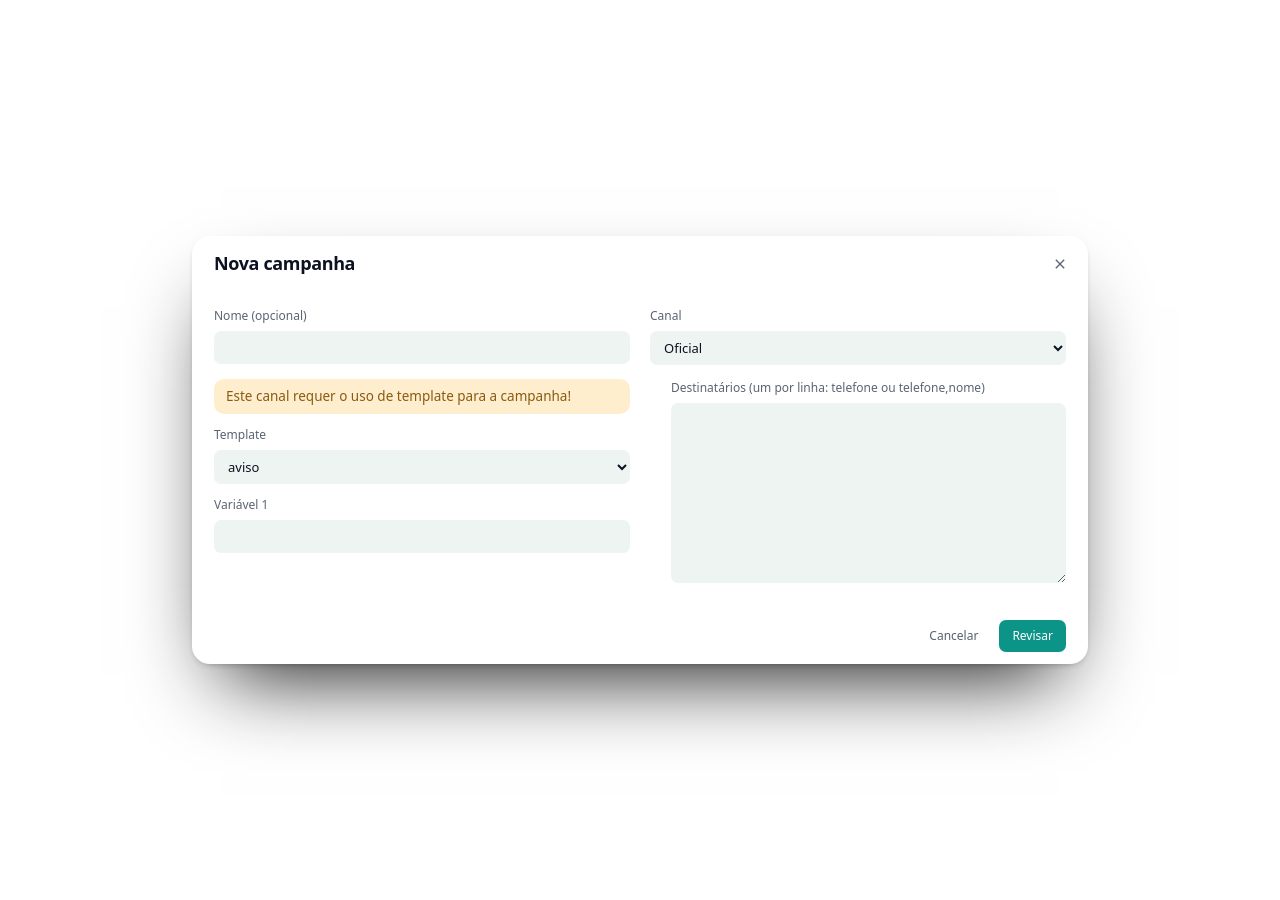
CreateCampaignModal › canal oficial exige template e variáveis preenchidas
This screenshot has width=1280, height=900.
Type "5511999990000" into the text box labelled "Destinatários (um por linha: telefone ou telefone,nome)". click: (868, 493)
box: [671, 403, 1066, 583]
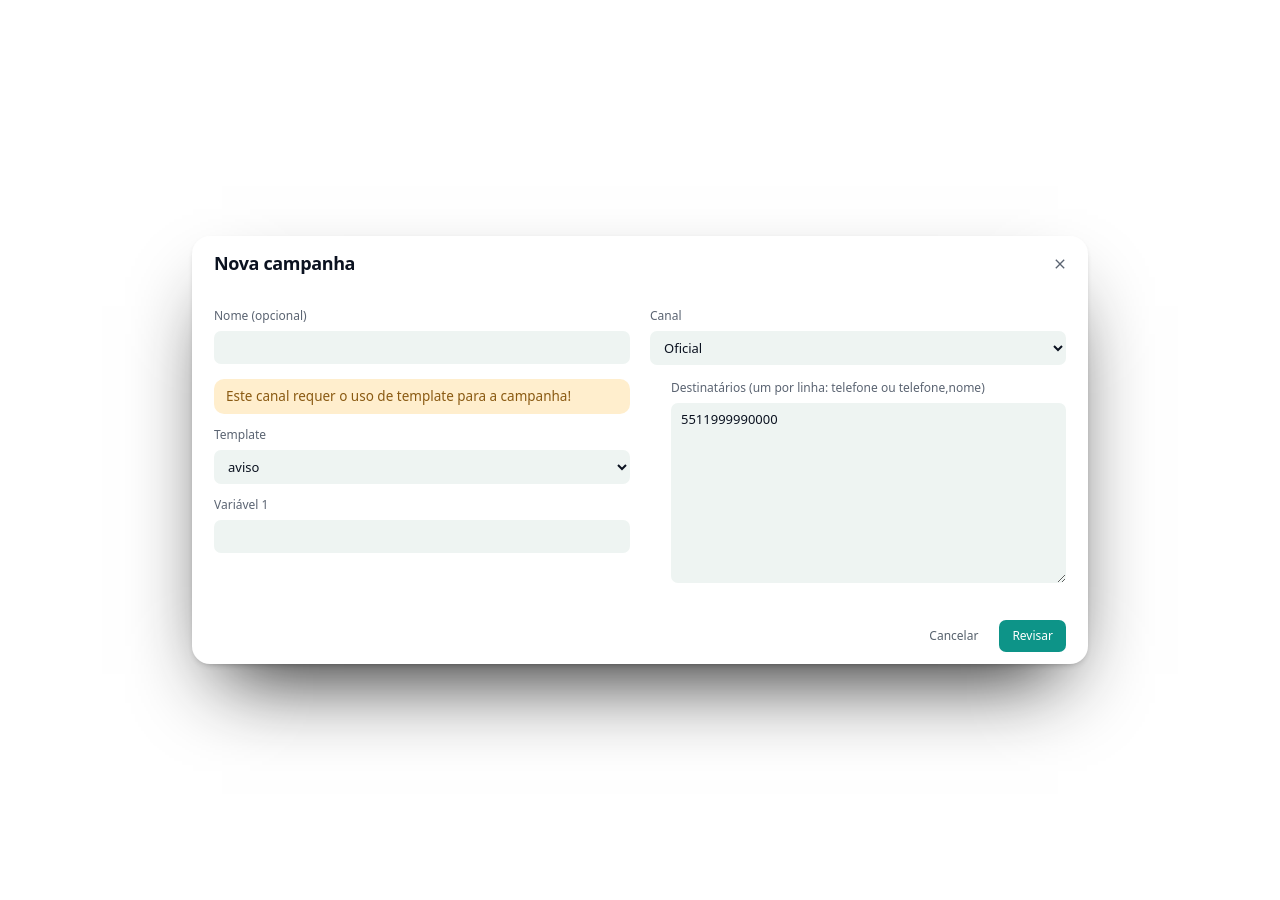
Click the button "Revisar". click: (1033, 636)
box: [999, 620, 1066, 652]
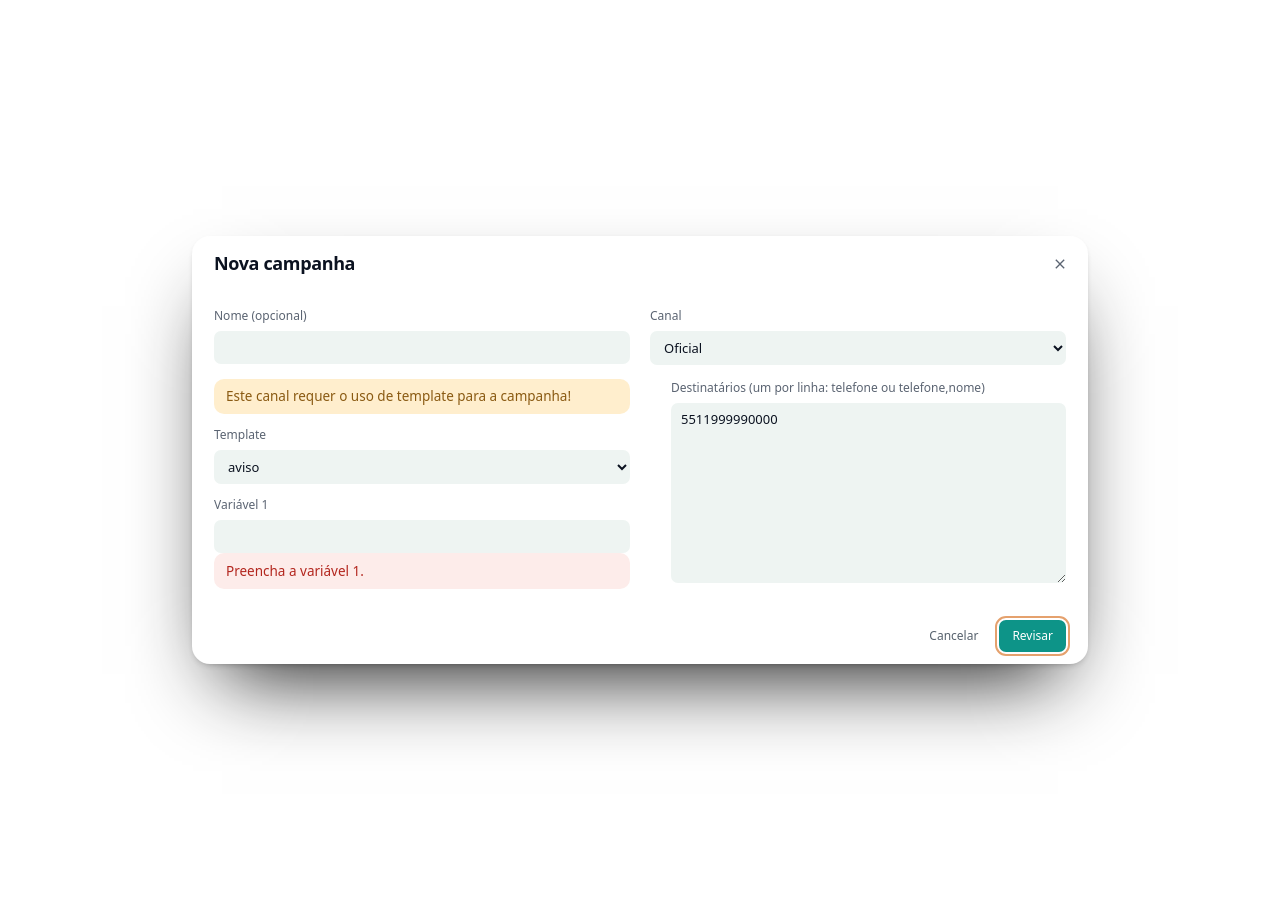
Expected: the text "Preencha a variável 1." is shown, [214, 553, 630, 589]
